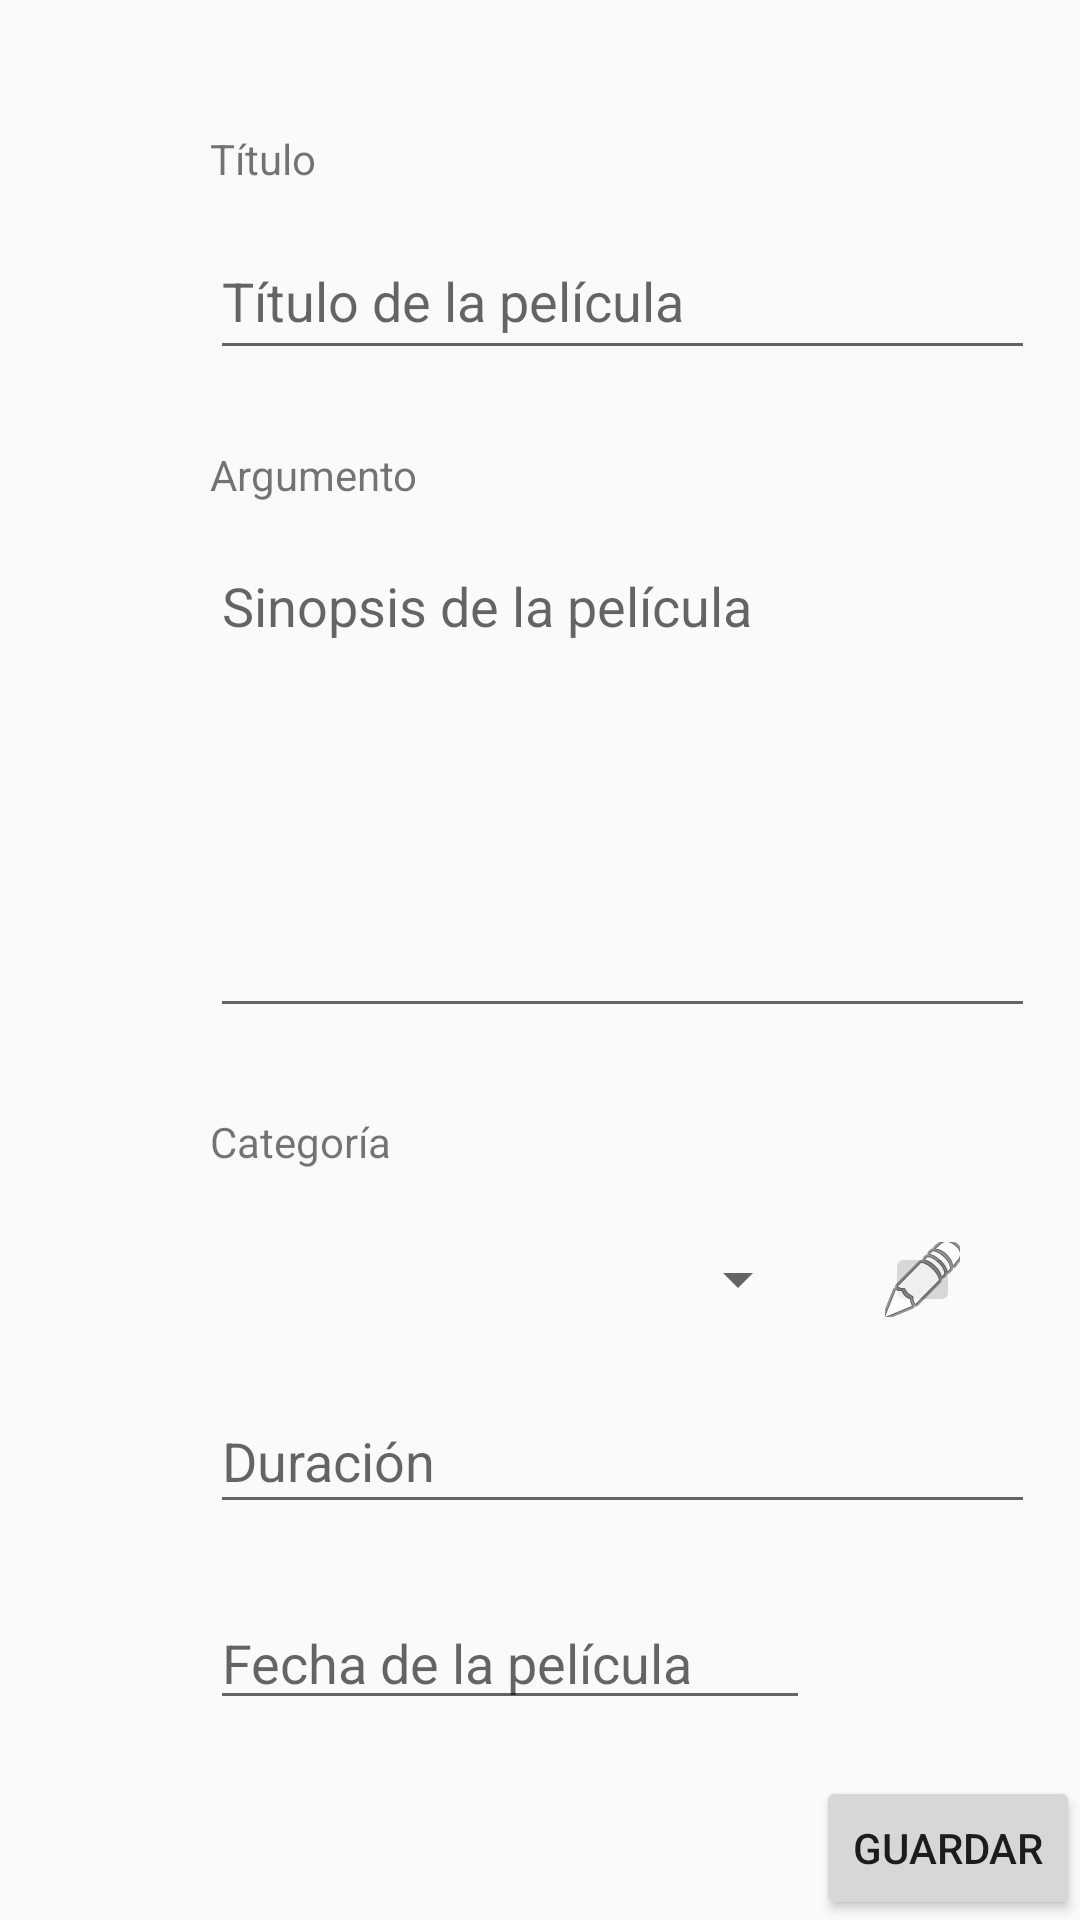

Icon bounding boxes for this 1080*1920 phone screenshot, format (x1, y1, x2, y2):
edit: (885, 1242, 960, 1317)
